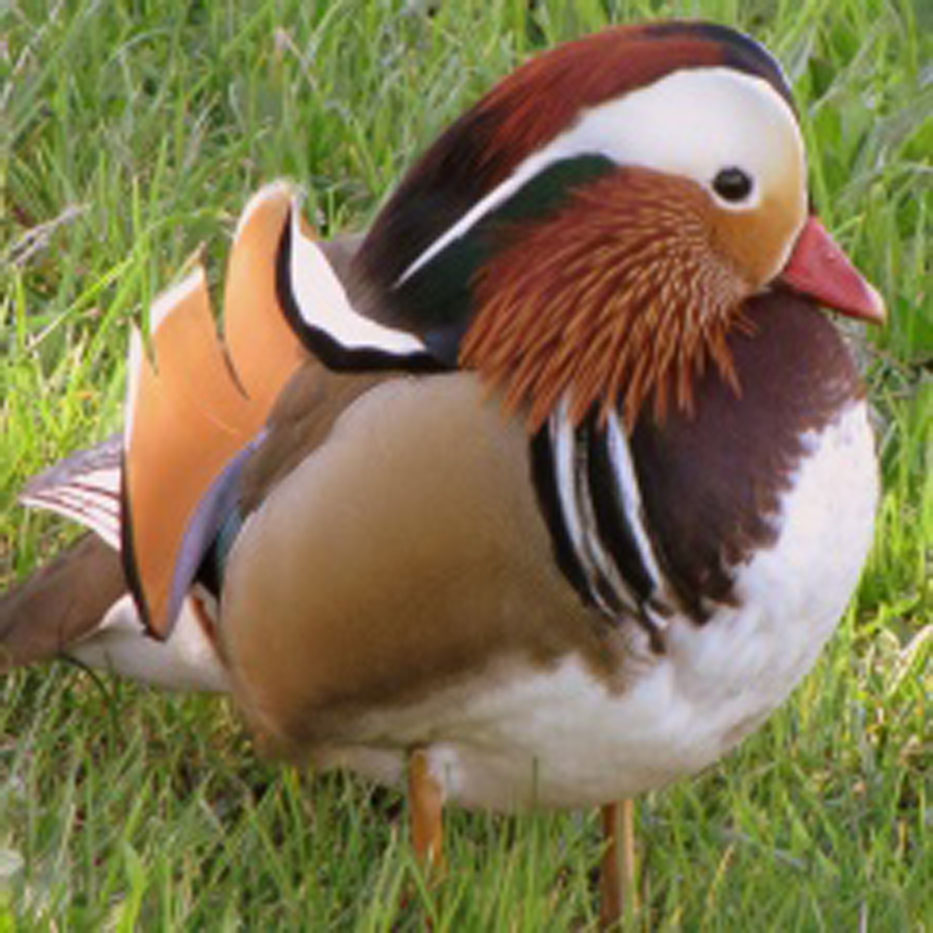Mencari Makan di Lumpur: (800, 217, 903, 341)
